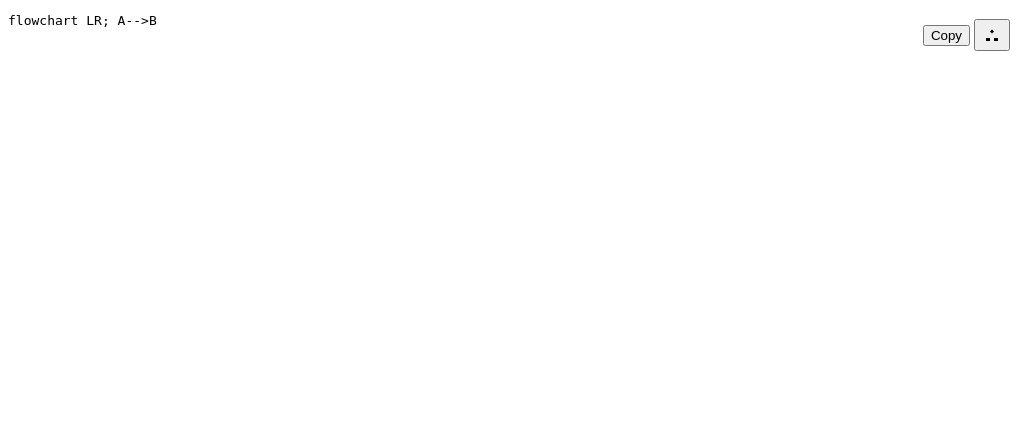
diagram preview controls › re-renders an open preview when the theme changes
The image size is (1024, 438).
Later steps or results of the test are not shown.
What coordinates should you click on to do the following:
click the button named "Preview diagram"
I would click on:
 (992, 35)
Its box is top-left (974, 19), bottom-right (1010, 51).
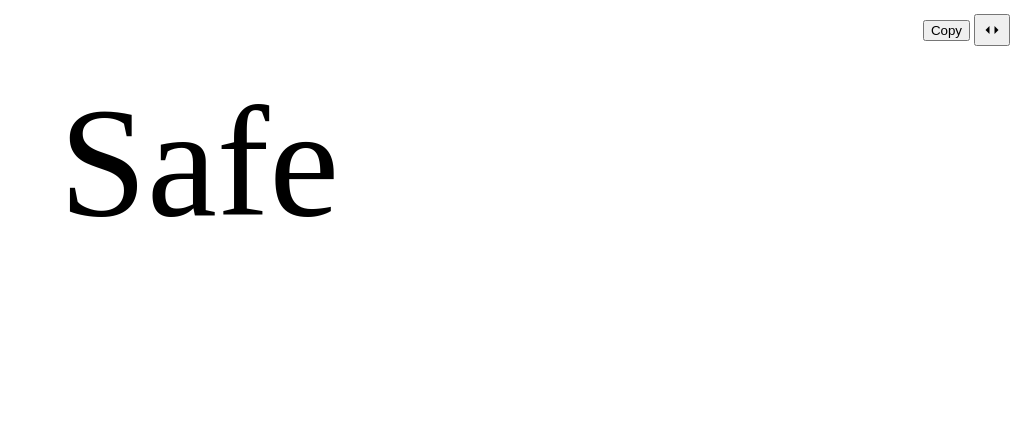
Now the element with class "diagram-preview" is shown
